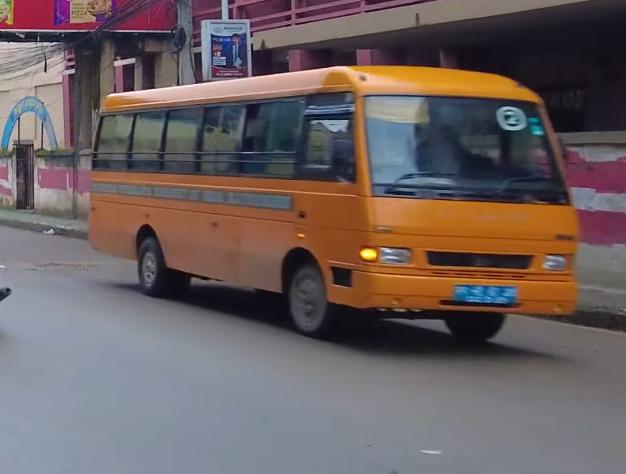school_bus: (82, 63, 581, 353)
